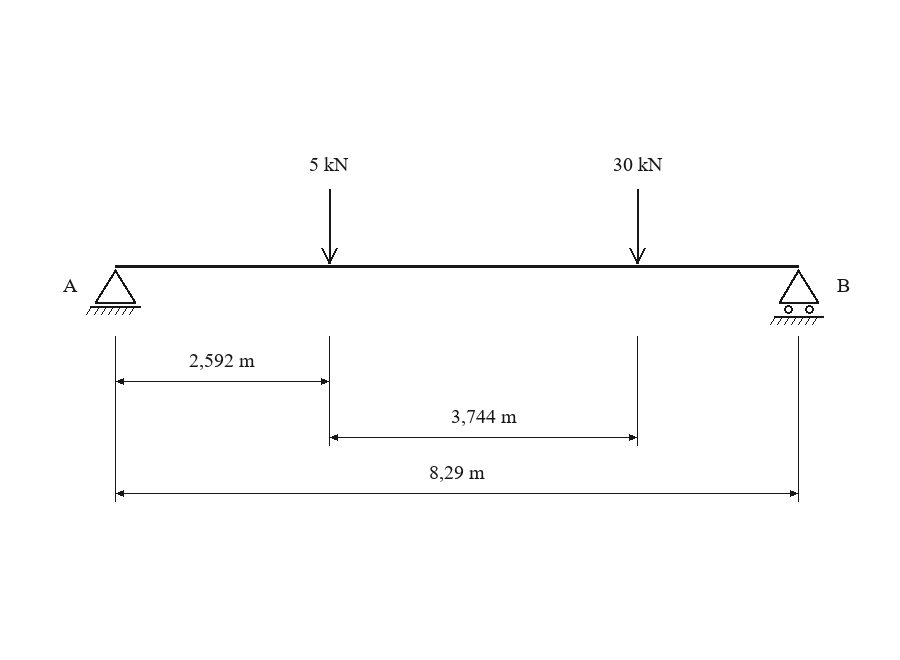pin_support: (86, 269, 141, 315)
point_load: (321, 189, 338, 264), (629, 189, 646, 264)
roller_support: (770, 269, 824, 325)
